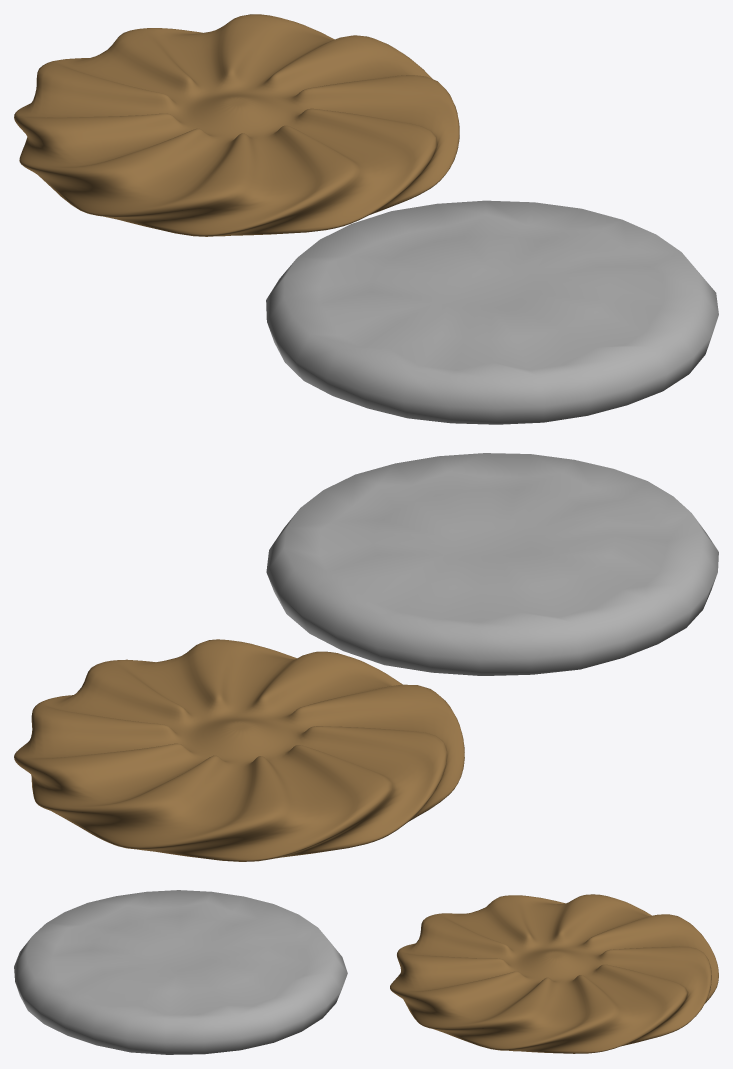
Rendered from cookie_003.fbx.
3 renders of one model, top to bottom at view 1: azimuth 30°, elevation 25°; view 2: azimuth 150°, elevation 25°; view 3: azimuth 270°, elevation 25°, orthographic. The views are drawn at different scales.
Parts seen in each view (by area): view 1: pSphere2, high_pol; view 2: pSphere2, high_pol; view 3: pSphere2, high_pol.
Boxes of the visible parts, x1=… form: pSphere2: x1=266, y1=200, x2=718, y2=424; high_pol: x1=14, y1=14, x2=459, y2=236; pSphere2: x1=266, y1=453, x2=718, y2=675; high_pol: x1=14, y1=639, x2=464, y2=861; pSphere2: x1=14, y1=890, x2=347, y2=1054; high_pol: x1=390, y1=894, x2=718, y2=1053.
Bounding box in the file's own units: 6.17 × 0.7582 × 13.04.
